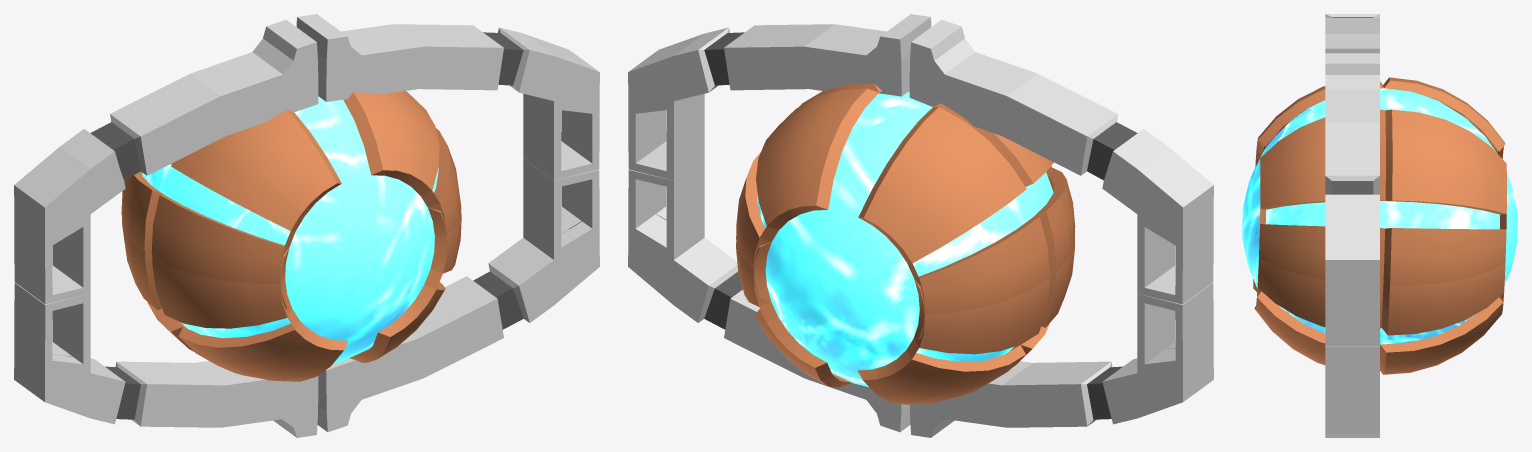
The model's file is matrix_band.glb.
3 views of the same model, side by side, from view 1: azimuth 30°, elevation 25°; view 2: azimuth 150°, elevation 25°; view 3: azimuth 270°, elevation 25° (orthographic). The views are drawn at different scales.
Parts seen in each view (by area): view 1: Plane, Sphere.001, Sphere; view 2: Plane, Sphere.001, Sphere; view 3: Sphere.001, Plane, Sphere.
Boxes of the visible parts, x1,y1,x2,y2 form: Plane: (14, 14, 599, 437); Sphere.001: (121, 91, 461, 381); Sphere: (142, 96, 438, 363); Plane: (628, 14, 1213, 437); Sphere.001: (736, 83, 1075, 404); Sphere: (757, 91, 1053, 386); Sphere.001: (1253, 77, 1506, 374); Plane: (1325, 14, 1379, 437); Sphere: (1242, 88, 1517, 344).
Size of the model in its own units: 5 by 3.38 by 2.41.
